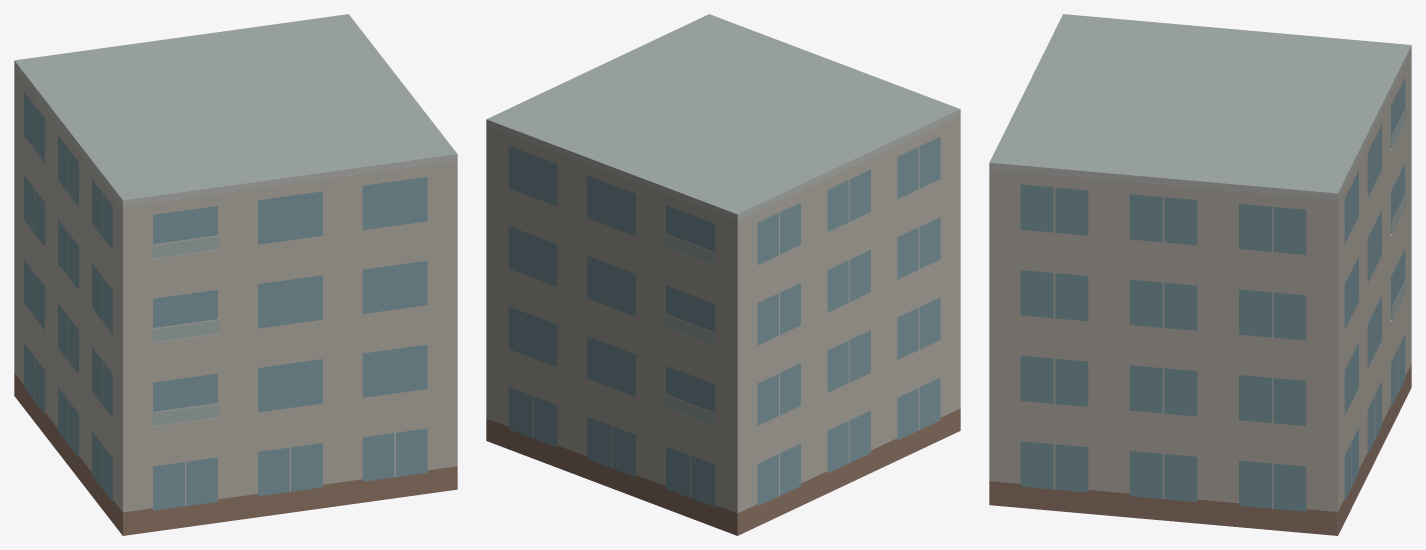
The model's file is residential-3577b264-7b46-4d6a-921e-d350175a6964.glb.
3 views of the same model, side by side, from view 1: azimuth 30°, elevation 25°; view 2: azimuth 150°, elevation 25°; view 3: azimuth 270°, elevation 25° (orthographic). The views are drawn at different scales.
Visible parts, largest first — view 1: residential-3577b264-7b46-4d6a-921e-d350175a6964.tmp; view 2: residential-3577b264-7b46-4d6a-921e-d350175a6964.tmp; view 3: residential-3577b264-7b46-4d6a-921e-d350175a6964.tmp.
Boxes of the visible parts, x1,y1,x2,y2 form: residential-3577b264-7b46-4d6a-921e-d350175a6964.tmp: [14, 14, 457, 535]; residential-3577b264-7b46-4d6a-921e-d350175a6964.tmp: [486, 14, 960, 535]; residential-3577b264-7b46-4d6a-921e-d350175a6964.tmp: [989, 14, 1411, 535].
Bounding box in the file's own units: 13.73 × 12.2 × 13.65.
